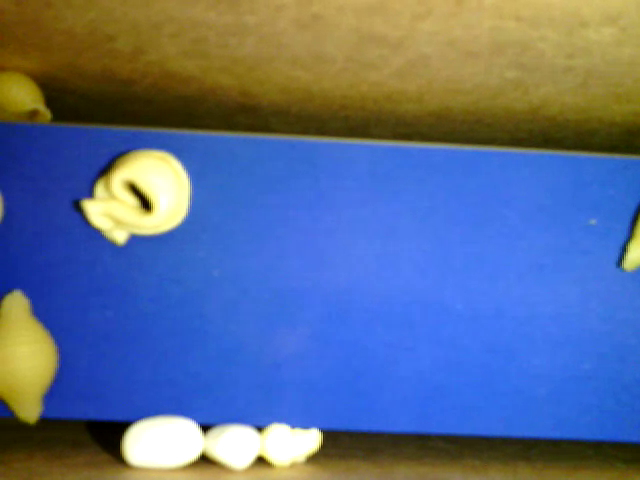shell: (4, 286, 63, 425), (1, 68, 56, 130)
tortellini: (65, 143, 194, 249)
